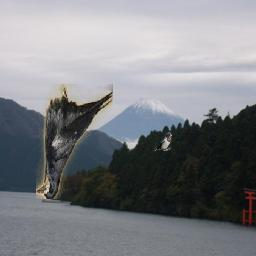Crow: (37, 85, 114, 200)
Swallow: (154, 133, 172, 152)
